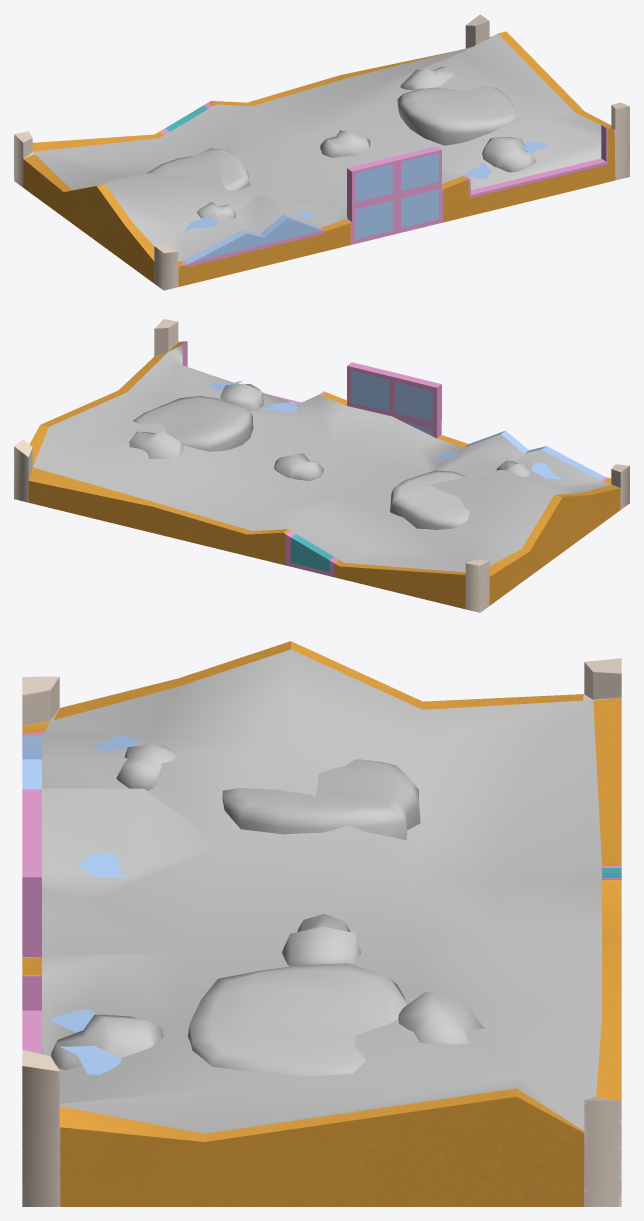
Rendered from House_W_Ruins.fbx.
The picture shows the model from 3 angles, top to bottom: view 1: azimuth 30°, elevation 25°; view 2: azimuth 150°, elevation 25°; view 3: azimuth 270°, elevation 25°; orthographic projection. The views are drawn at different scales.
Parts seen in each view (by area): view 1: House_W_Ruins; view 2: House_W_Ruins; view 3: House_W_Ruins.
Part boxes in pixels (x1=…): House_W_Ruins: x1=14, y1=14, x2=629, y2=290; House_W_Ruins: x1=14, y1=319, x2=629, y2=612; House_W_Ruins: x1=22, y1=641, x2=621, y2=1206.
Size of the model in its own units: 335 by 50.41 by 187.
